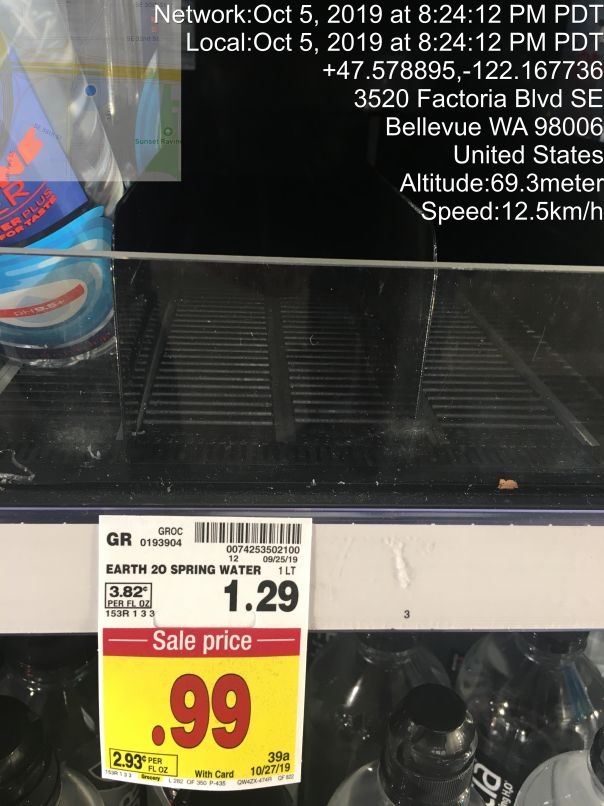Label: (93, 508, 321, 631)
Location: (347, 80, 604, 166)
Time: (143, 6, 604, 55)
Void: (162, 105, 423, 434)
